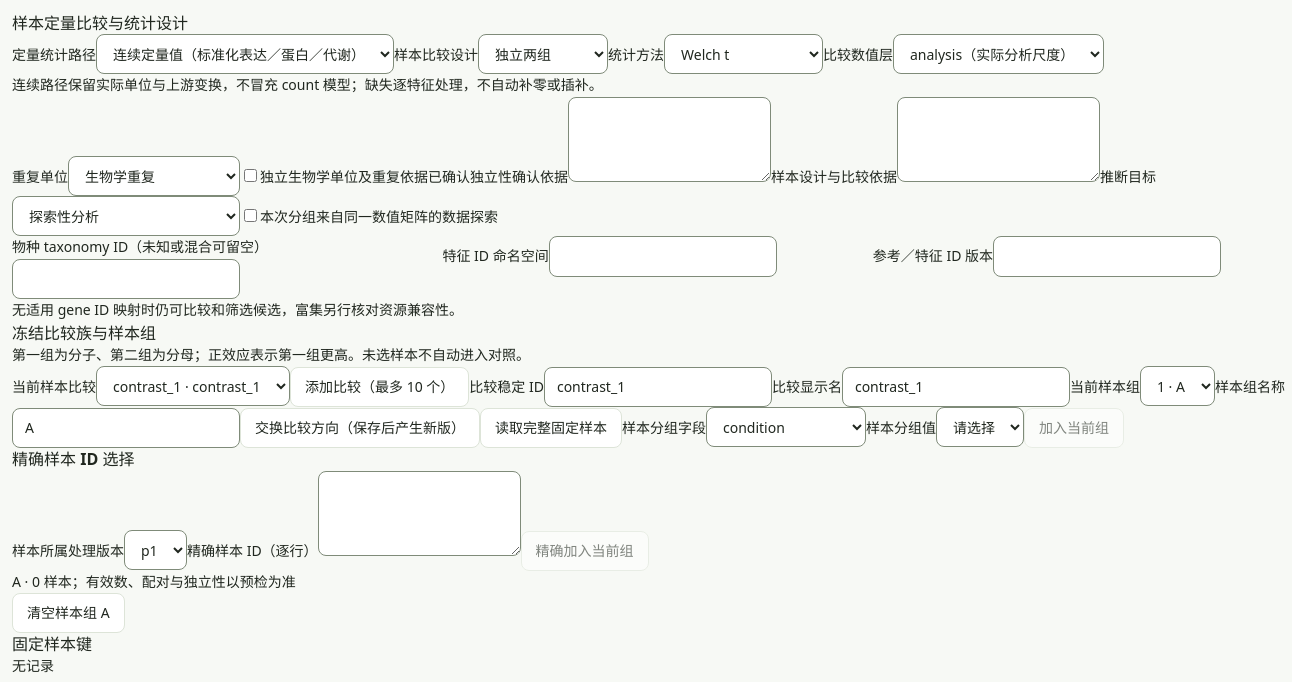
Scenario: keeps bulk pairwise multi-contrast design and exposes structured covariates
Later steps or results of the test are not shown.
Select "bulk 原始整数 counts · DESeq2" in the dropdown labelled "定量统计路径" at [245, 54], box [96, 34, 394, 74]
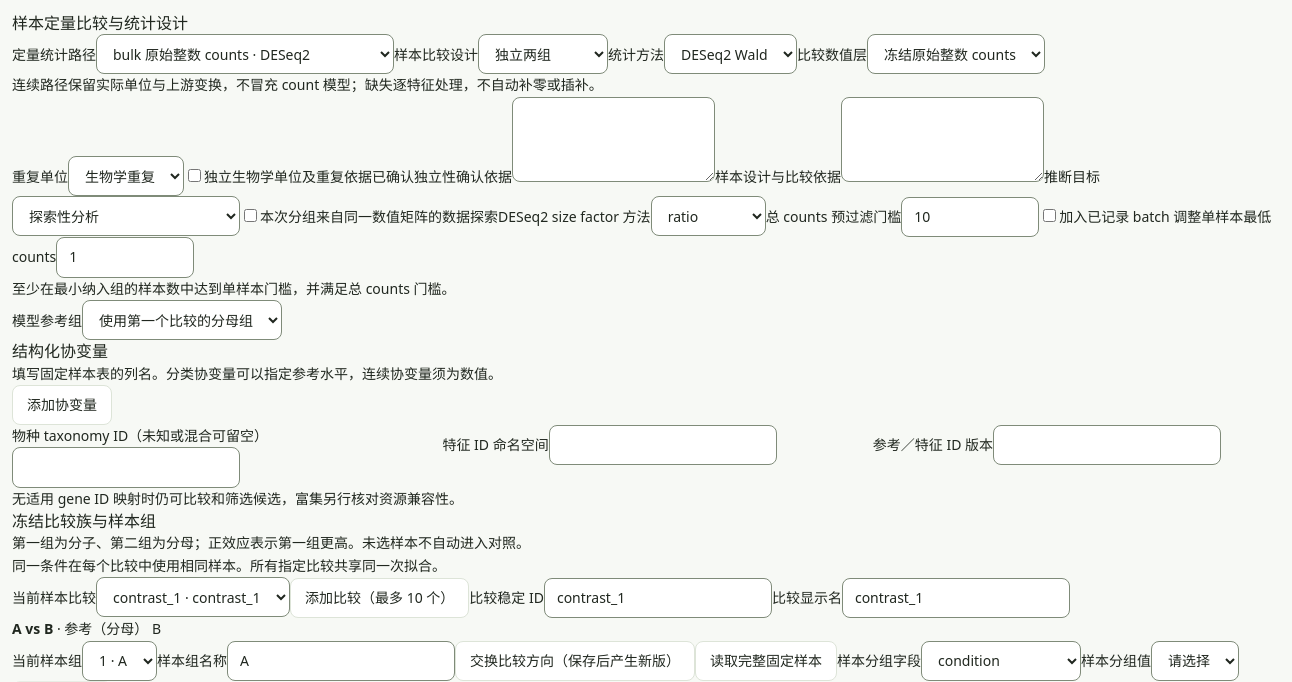
Select "多组指定两两比较（统一拟合）" in the dropdown labelled "样本比较设计" at [543, 54], box [478, 34, 608, 74]
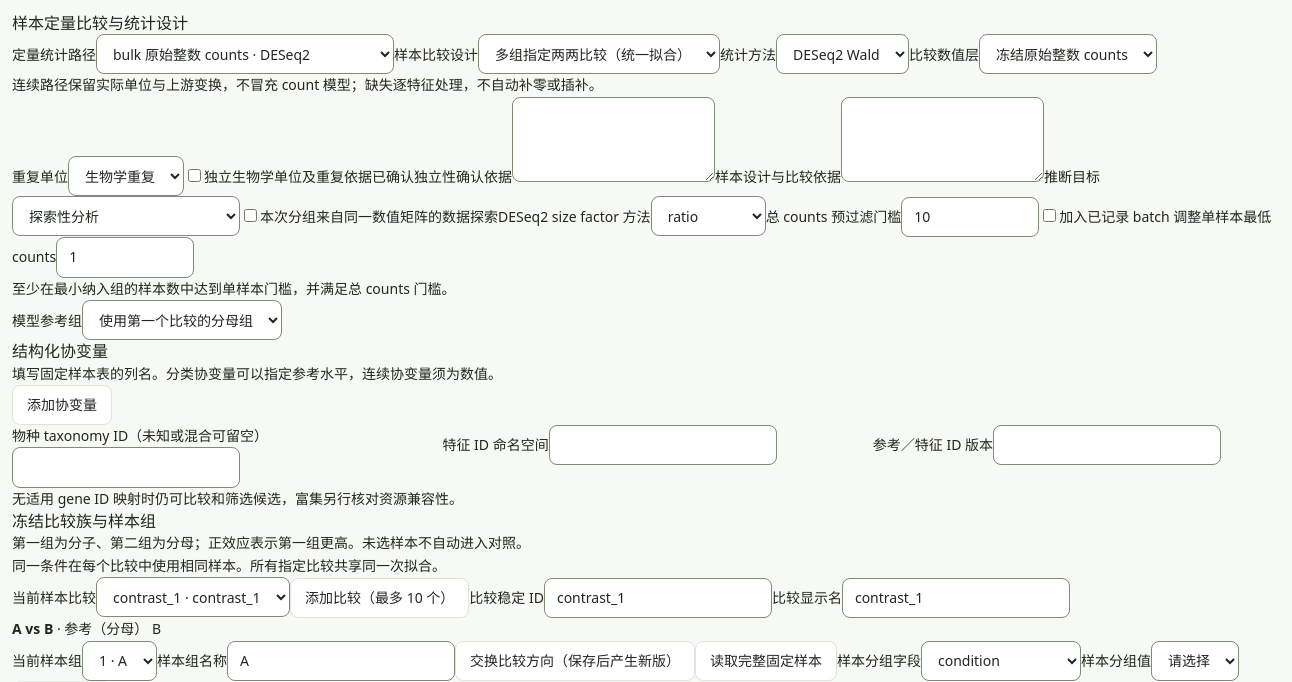
Check: the button "添加协变量" is shown, box [12, 385, 112, 425]
